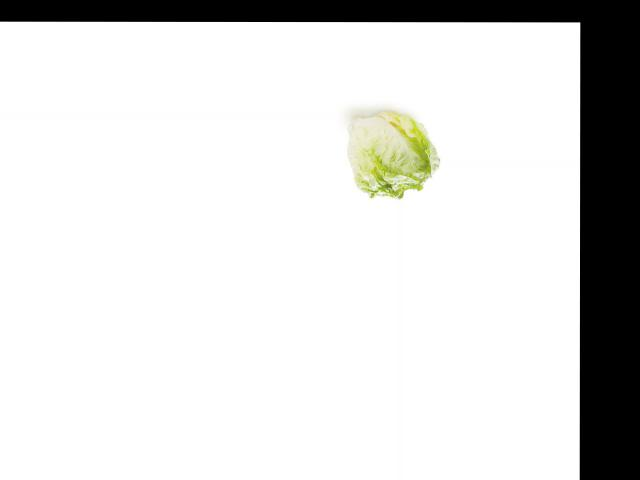lettuce: (341, 112, 445, 202)
